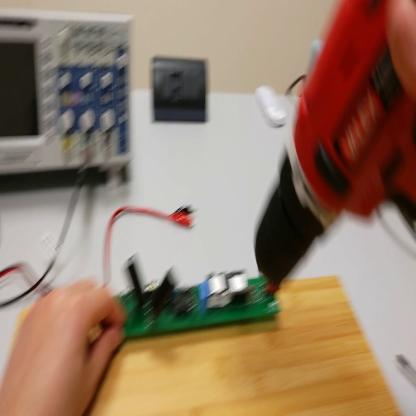electric screwdriver: (254, 2, 416, 286)
hand: (322, 2, 416, 212), (2, 278, 126, 415)
high voltage board: (106, 244, 299, 389)
oscilloscope: (2, 11, 138, 191)
screwdriver-: (397, 353, 416, 382)
working area: (6, 277, 403, 416)
